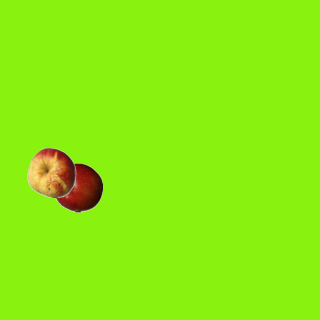Apple Braeburn: (52, 162, 102, 212)
Apple Red Yellow 1: (26, 147, 76, 197)
